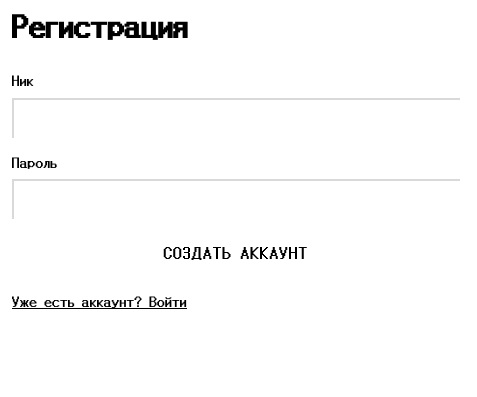
RegisterForm › shows validation errors for empty fields
Click the button "Создать аккаунт". click: (236, 255)
box: [12,235,460,275]
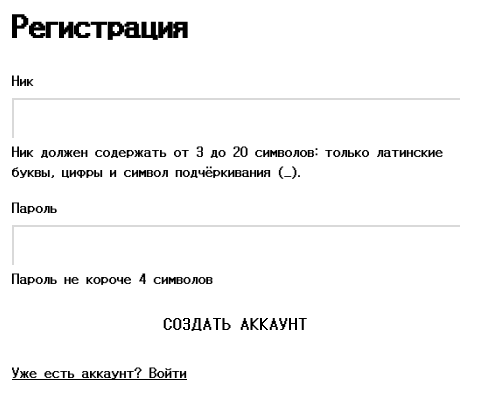
Check: the number of messages is 2, box [12,143,460,183]; [12,273,213,287]
